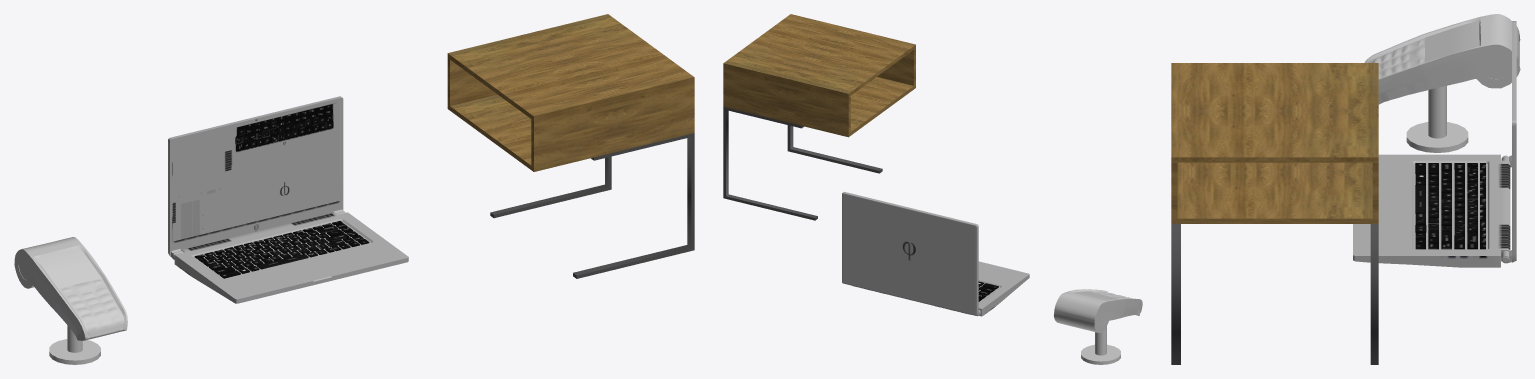
File: Props.FBX
The picture shows the model from 3 angles, left to right: view 1: azimuth 30°, elevation 25°; view 2: azimuth 150°, elevation 25°; view 3: azimuth 270°, elevation 25°; orthographic projection. The views are drawn at different scales.
Parts seen in each view (by area): view 1: Table, Object380, body, Cylinder002, Keys, screen, model_1; view 2: Table, screen, Cylinder002, body; view 3: Table, body, Cylinder002, Keys, model_1, screen.
Boxes of the visible parts, box(x1,y1,x2,y2) form: Table: box(447, 14, 694, 278); Object380: box(172, 102, 340, 241); body: box(174, 212, 408, 303); Cylinder002: box(14, 237, 127, 364); Keys: box(194, 221, 369, 278); screen: box(168, 96, 345, 259); model_1: box(35, 247, 101, 288); Table: box(723, 14, 915, 220); screen: box(842, 192, 980, 316); Cylinder002: box(1053, 289, 1142, 364); body: box(852, 261, 1029, 316); Table: box(1171, 63, 1378, 364); body: box(1353, 154, 1510, 267); Cylinder002: box(1364, 14, 1520, 152); Keys: box(1415, 163, 1485, 249); model_1: box(1425, 21, 1479, 62); screen: box(1501, 21, 1516, 263).
Bounding box in the file's own units: 212 × 88.64 × 99.96.
